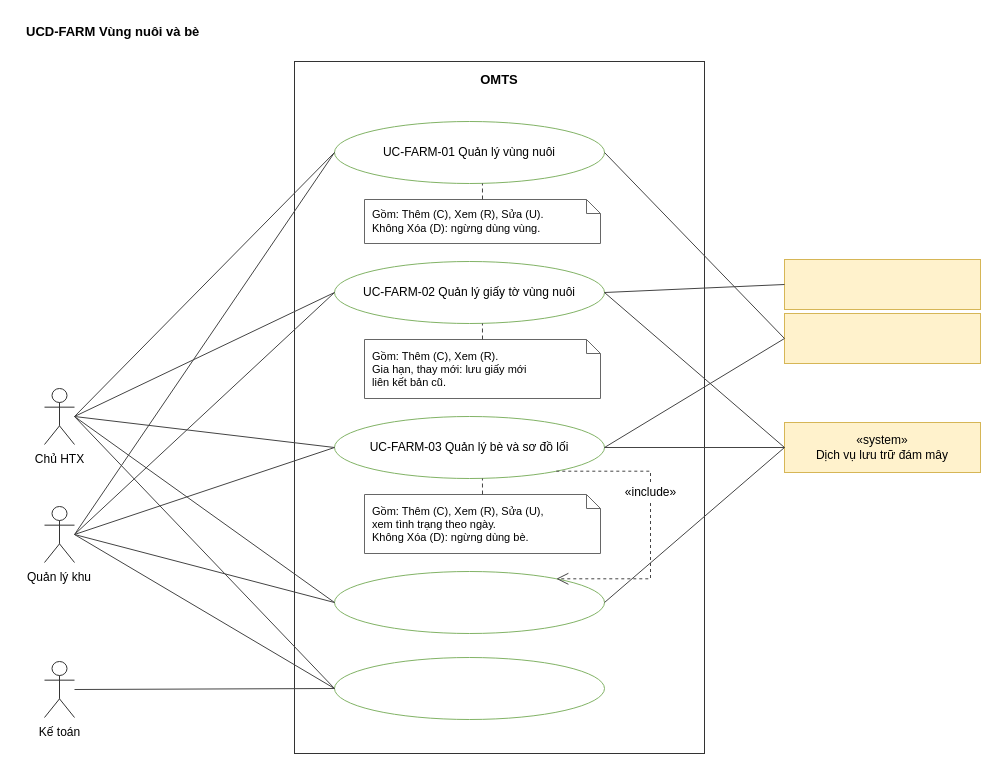
The diagram is 998 pixels wide and 771 high, and some of its shapes have lost their labels. The shapes that lost their labels are listed below. From the top down, each one's centre as x and y in pixels, then its label:
point (882, 284): «system» Dịch vụ thông báo đẩy
point (882, 338): «system» Google Maps
point (469, 602): UC-FARM-04 Ghi nhận vật tư bè
point (469, 688): UC-FARM-05 Xem chi phí vật tư bè
